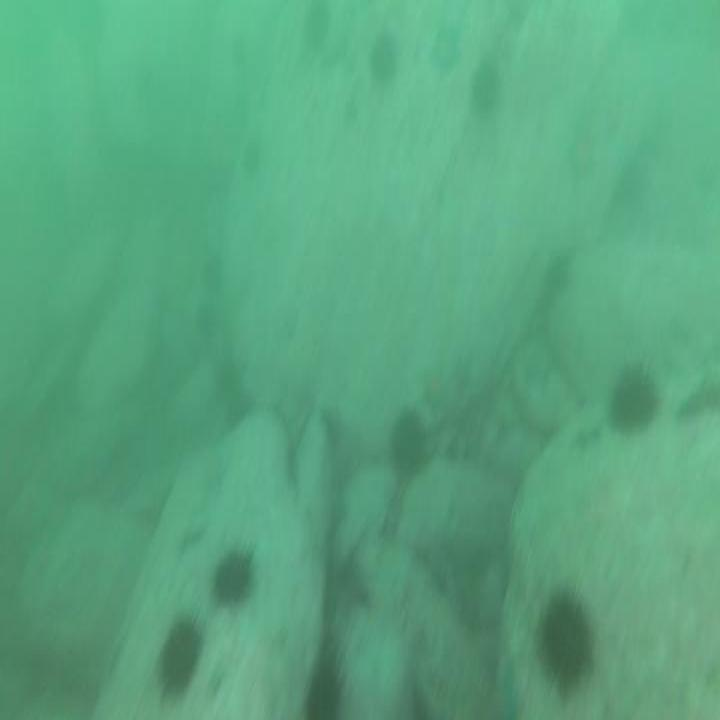echinus: (533, 580, 596, 704), (153, 610, 208, 704), (608, 359, 664, 437), (388, 398, 431, 487), (209, 537, 256, 610), (304, 649, 347, 720), (468, 55, 502, 117), (366, 32, 401, 89), (301, 0, 334, 59), (540, 249, 574, 304), (223, 380, 254, 436), (192, 295, 222, 343), (239, 133, 265, 185), (196, 254, 224, 299)
holothurian: (672, 368, 720, 434)
starfish: (563, 112, 599, 197), (427, 18, 468, 82), (418, 359, 453, 416), (445, 348, 478, 402)
